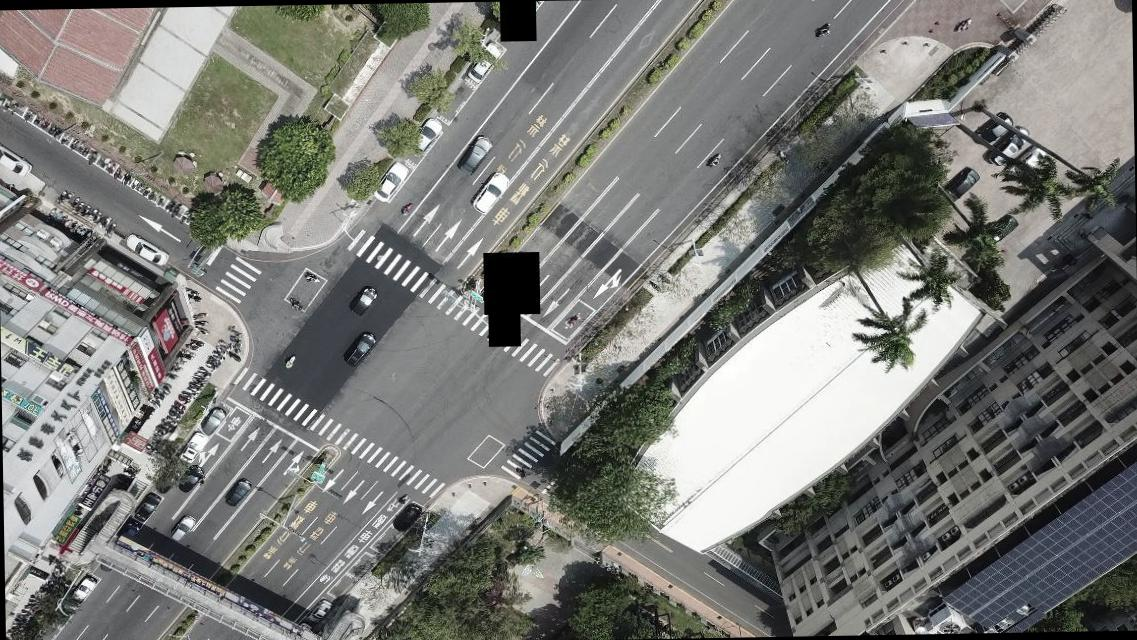vehicle: (983, 127, 1032, 167), (373, 162, 409, 202), (125, 232, 167, 266), (466, 45, 500, 87), (473, 172, 508, 212), (0, 139, 33, 180), (944, 166, 980, 203), (458, 136, 492, 175), (1005, 148, 1045, 180), (343, 330, 376, 365), (985, 214, 1021, 245), (410, 118, 440, 155), (980, 114, 1014, 144), (391, 500, 421, 530), (131, 493, 162, 521), (177, 434, 206, 463), (70, 574, 97, 604), (348, 286, 376, 314), (200, 406, 226, 433), (171, 515, 195, 544), (152, 467, 177, 494), (226, 479, 250, 506), (181, 468, 202, 492), (308, 598, 329, 622)
